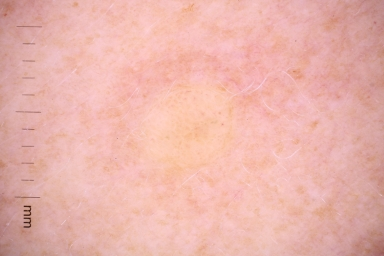melanoma: (147, 79, 239, 172)
